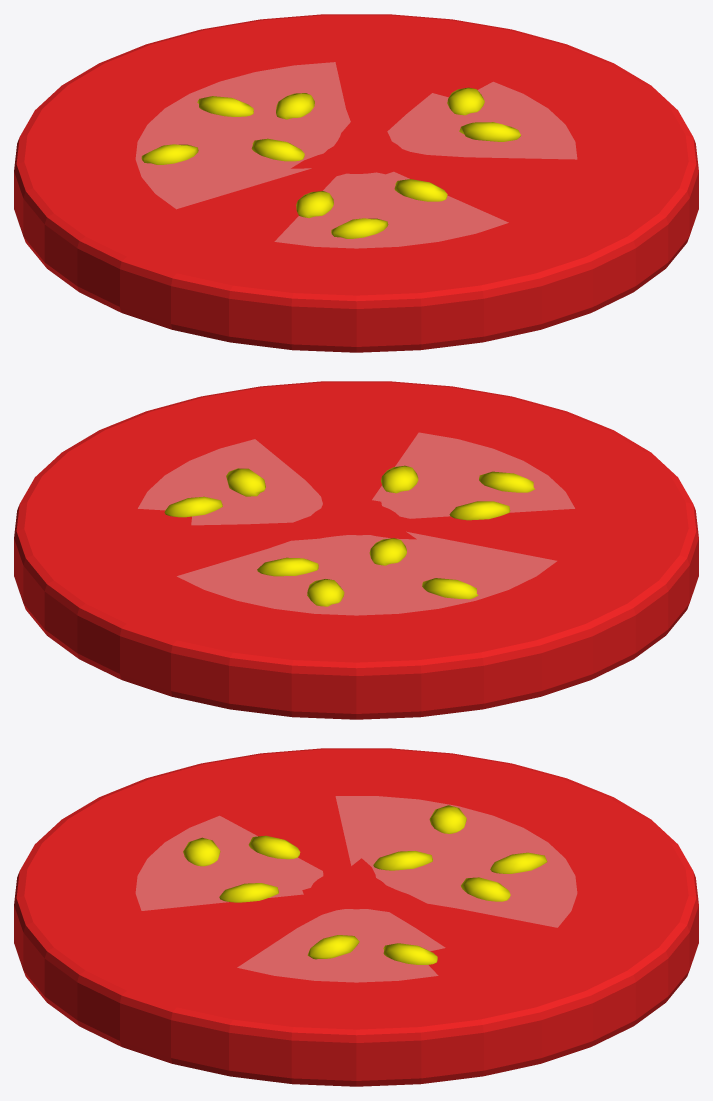
The model's file is Tomato slice.gltf.
The picture shows the model from 3 angles, top to bottom: view 1: azimuth 30°, elevation 25°; view 2: azimuth 150°, elevation 25°; view 3: azimuth 270°, elevation 25°; orthographic projection.
Visible parts, largest first — view 1: node-0; view 2: node-0; view 3: node-0.
Part boxes in pixels (box(x1,y1,x2,y2)): node-0: box(14, 14, 698, 352); node-0: box(14, 381, 698, 719); node-0: box(14, 748, 698, 1086).
Bounding box in the file's own units: 1679227 × 173684 × 1681131.
